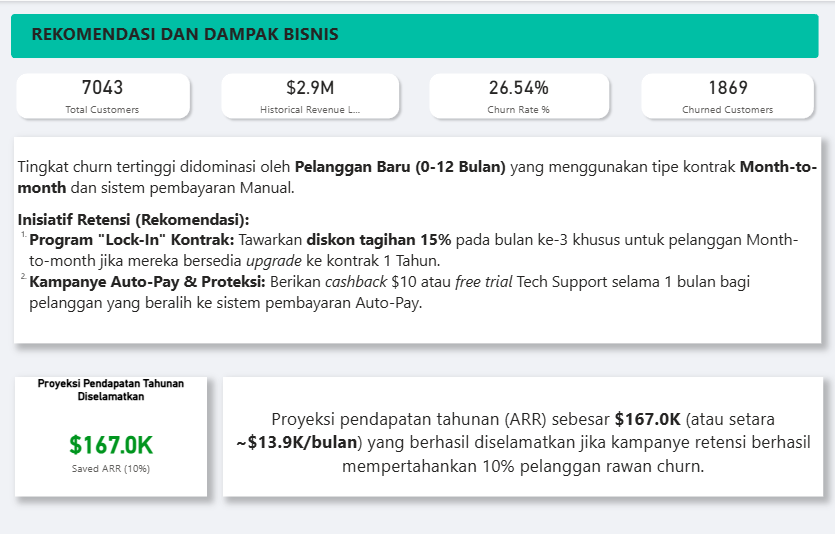

Layout of this report page (visuals, bound fields, positions):
{"tool":"powerbi","page":{"name":"Recommendation","canvas":[1280,1000],"ordinal":2},"visuals":[{"type":"shape","box":[17.9,19.9,1236.8,67.5],"z":0},{"type":"textbox","box":[43.7,25.8,536,53.6],"z":1000},{"type":"textbox","box":[23.4,207.9,1236.2,315.7],"z":2000},{"type":"card","title":"Proyeksi Pendapatan Tahunan Diselamatkan","fields":{"Values":["telco_cleaned.Saved ARR (10%)"]},"box":[25,575.1,293.8,182.9],"z":3000},{"type":"textbox","box":[342.3,575.1,919,182.9],"z":4000},{"type":"shape","box":[17.7,102.7,281.9,85.2],"z":5000},{"type":"shape","box":[332.4,102.7,288.5,85.2],"z":6000},{"type":"shape","box":[650.3,102.7,291.7,85.2],"z":7000},{"type":"shape","box":[974.8,102.7,280.3,85.2],"z":8000},{"type":"card","fields":{"Values":["telco_cleaned.Total Customers"]},"box":[57,94.6,203.2,91.8],"z":9000},{"type":"card","fields":{"Values":["telco_cleaned.Churn Rate %"]},"box":[707.7,102.7,177,75.4],"z":10000},{"type":"card","fields":{"Values":["telco_cleaned.Historical Revenue Lost"]},"box":[389.7,102.7,172.1,75.4],"z":11000},{"type":"card","fields":{"Values":["telco_cleaned.Churned Customers"]},"box":[1027.3,102.7,177,75.4],"z":12000}]}

Visuals, with their boxes on the page's 1280x1000 design canvas (x1, y1, x2, y2). These are canvas units, not pixel positions in the 835x534 screenshot, which may show the page scaled, cropped or inside an application window:
shape: (18, 20, 1255, 87)
textbox: (44, 26, 580, 79)
textbox: (23, 208, 1260, 524)
"Proyeksi Pendapatan Tahunan Diselamatkan" card: (25, 575, 319, 758)
textbox: (342, 575, 1261, 758)
shape: (18, 103, 300, 188)
shape: (332, 103, 621, 188)
shape: (650, 103, 942, 188)
shape: (975, 103, 1255, 188)
card - telco_cleaned.Total Customers: (57, 95, 260, 186)
card - telco_cleaned.Churn Rate %: (708, 103, 885, 178)
card - telco_cleaned.Historical Revenue Lost: (390, 103, 562, 178)
card - telco_cleaned.Churned Customers: (1027, 103, 1204, 178)
